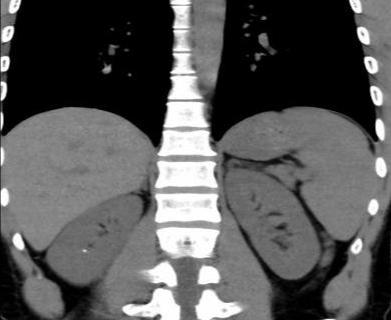Tas_Var: (80, 248, 90, 255)
